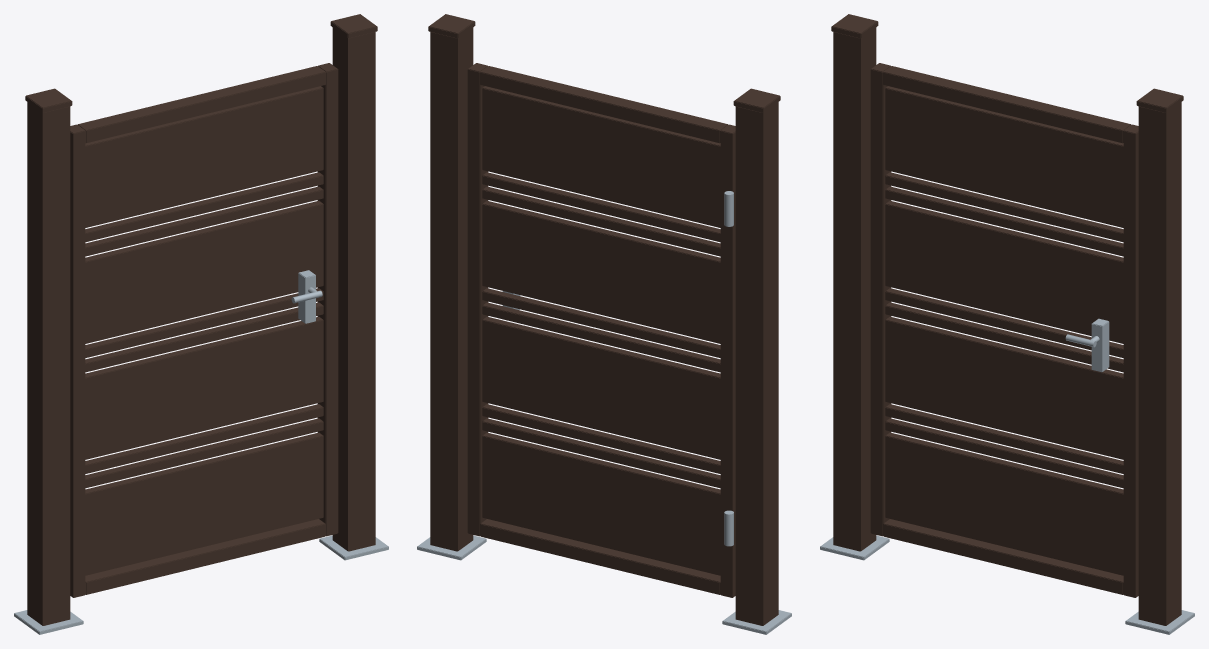
Rendered from 03-pesacka.glb.
3 views of the same model, side by side, from view 1: azimuth 30°, elevation 25°; view 2: azimuth 150°, elevation 25°; view 3: azimuth 330°, elevation 25° (orthographic).
Visible parts, largest first — view 1: Stub_levi.008, Ispuna_siroka, Ispuna_siroka.001, Ispuna_siroka.002, Ispuna_siroka.003, Stub_desni.008, Ram_bocni.021, Ram_bocni.020, Ram_gornji.010, Ram_donji.010, Ispuna_uska, Ispuna_uska.004 (+9 smaller); view 2: Stub_levi.008, Ispuna_siroka, Ispuna_siroka.001, Ispuna_siroka.002, Ispuna_siroka.003, Stub_desni.008, Ram_bocni.021, Ram_bocni.020, Ram_gornji.010, Ram_donji.010, Ispuna_uska, Ispuna_uska.004 (+8 smaller); view 3: Stub_desni.008, Ispuna_siroka, Ispuna_siroka.001, Ispuna_siroka.002, Ispuna_siroka.003, Stub_levi.008, Ram_bocni.020, Ram_bocni.021, Ram_gornji.010, Ram_donji.010, Ispuna_uska, Ispuna_uska.004 (+9 smaller).
Boxes of the visible parts, x1,y1,x2,y2 form: Stub_levi.008: (27,102,70,625); Ispuna_siroka: (85,432,323,575); Ispuna_siroka.001: (85,316,323,459); Ispuna_siroka.002: (85,200,323,343); Ispuna_siroka.003: (85,86,323,227); Stub_desni.008: (332,27,375,551); Ram_bocni.021: (317,63,338,536); Ram_bocni.020: (70,124,85,597); Ram_gornji.010: (77,66,325,143); Ram_donji.010: (85,519,325,594); Ispuna_uska: (85,418,323,488); Ispuna_uska.004: (85,186,323,256); Stub_levi.008: (735,102,778,625); Ispuna_siroka: (482,432,720,575); Ispuna_siroka.001: (482,316,720,459); Ispuna_siroka.002: (482,200,720,343); Ispuna_siroka.003: (482,86,720,227); Stub_desni.008: (430,27,473,551); Ram_bocni.021: (467,63,488,536); Ram_bocni.020: (720,124,735,597); Ram_gornji.010: (480,66,728,143); Ram_donji.010: (480,519,720,594); Ispuna_uska: (482,418,720,488); Ispuna_uska.004: (482,186,720,256); Stub_desni.008: (1138,102,1181,625); Ispuna_siroka: (885,432,1123,575); Ispuna_siroka.001: (885,316,1123,459); Ispuna_siroka.002: (885,200,1123,343); Ispuna_siroka.003: (885,86,1123,227); Stub_levi.008: (833,27,876,551); Ram_bocni.020: (870,63,891,536); Ram_bocni.021: (1123,124,1138,597); Ram_gornji.010: (883,66,1131,143); Ram_donji.010: (883,519,1123,594); Ispuna_uska: (885,418,1123,488); Ispuna_uska.004: (885,186,1123,256).
Size of the model in its own units: 1.26 by 1.8 by 0.19.
